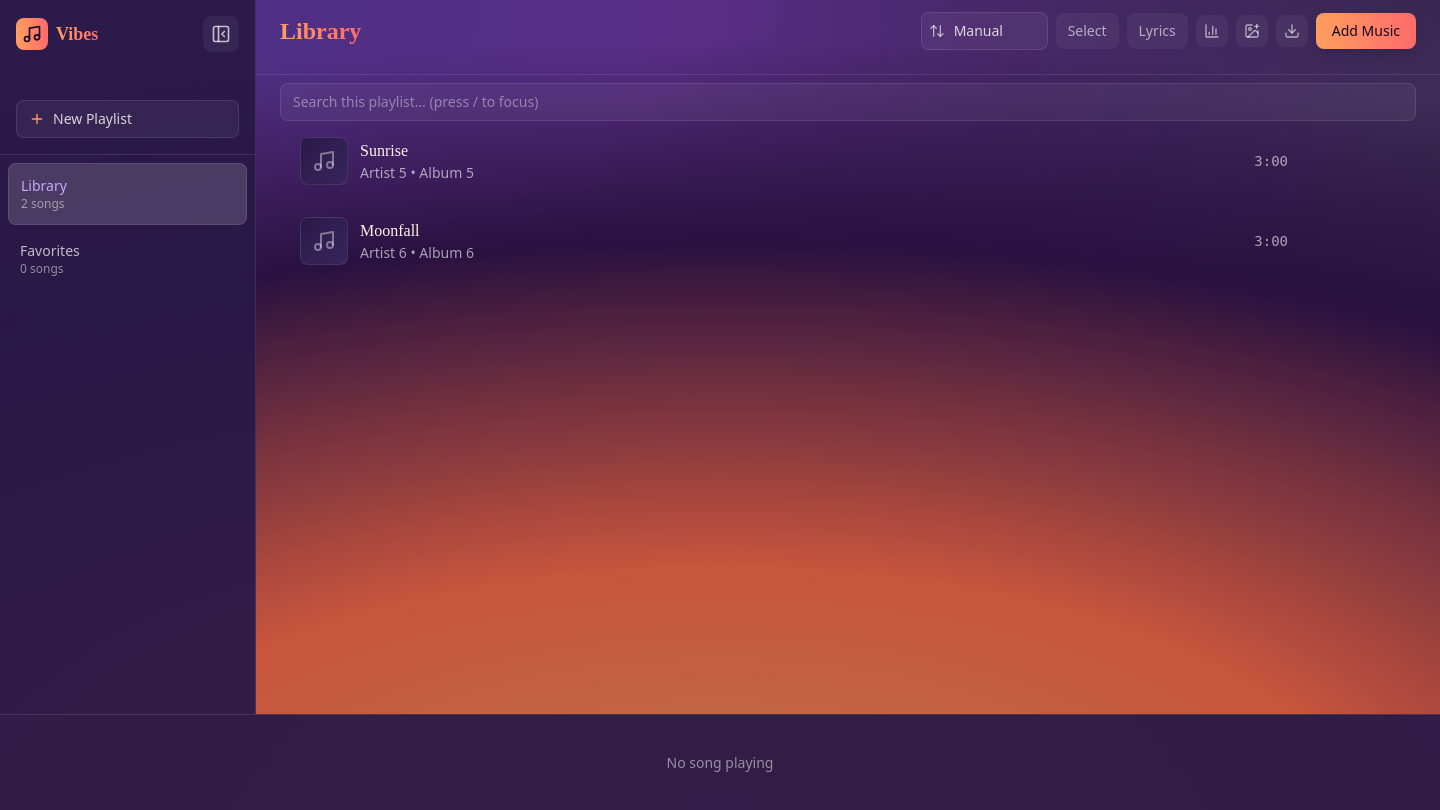
Test case: App › search filters the visible list
The image size is (1440, 810).
Type "moon" into the field with placeholder "Search this playlist… (press / to focus)" at (848, 102), box [280, 83, 1416, 121]
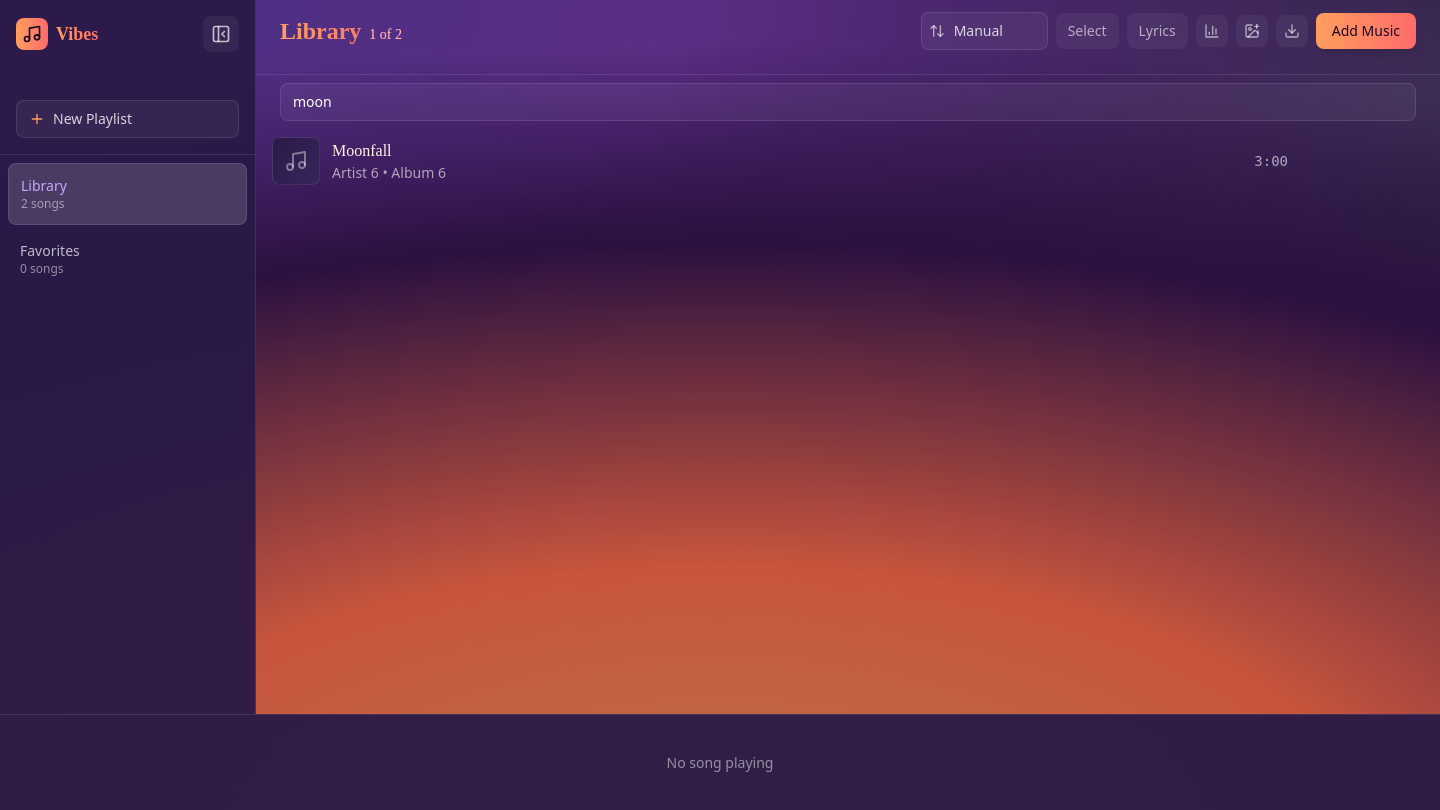
Result: the text "Moonfall" is shown at [332, 142, 392, 159]
Result: the button "Sunrise" is gone
